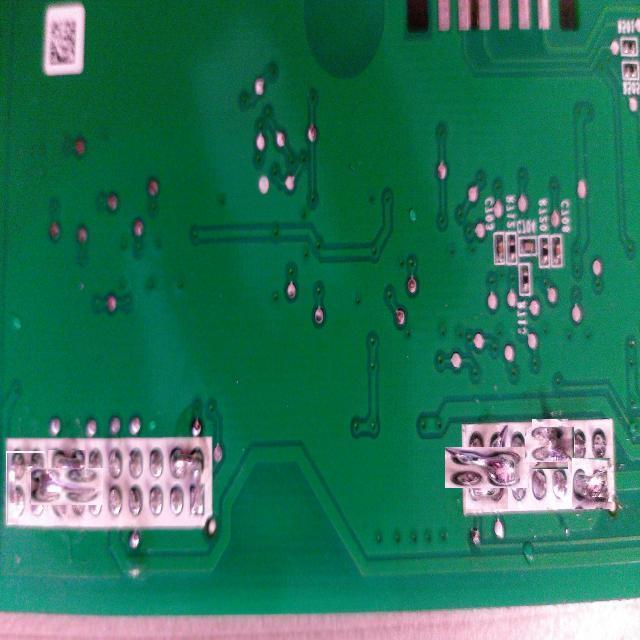Short_circuit: (456, 436, 518, 499), (39, 459, 95, 514), (168, 446, 207, 524), (6, 452, 46, 524), (572, 458, 612, 509), (528, 423, 572, 466)
